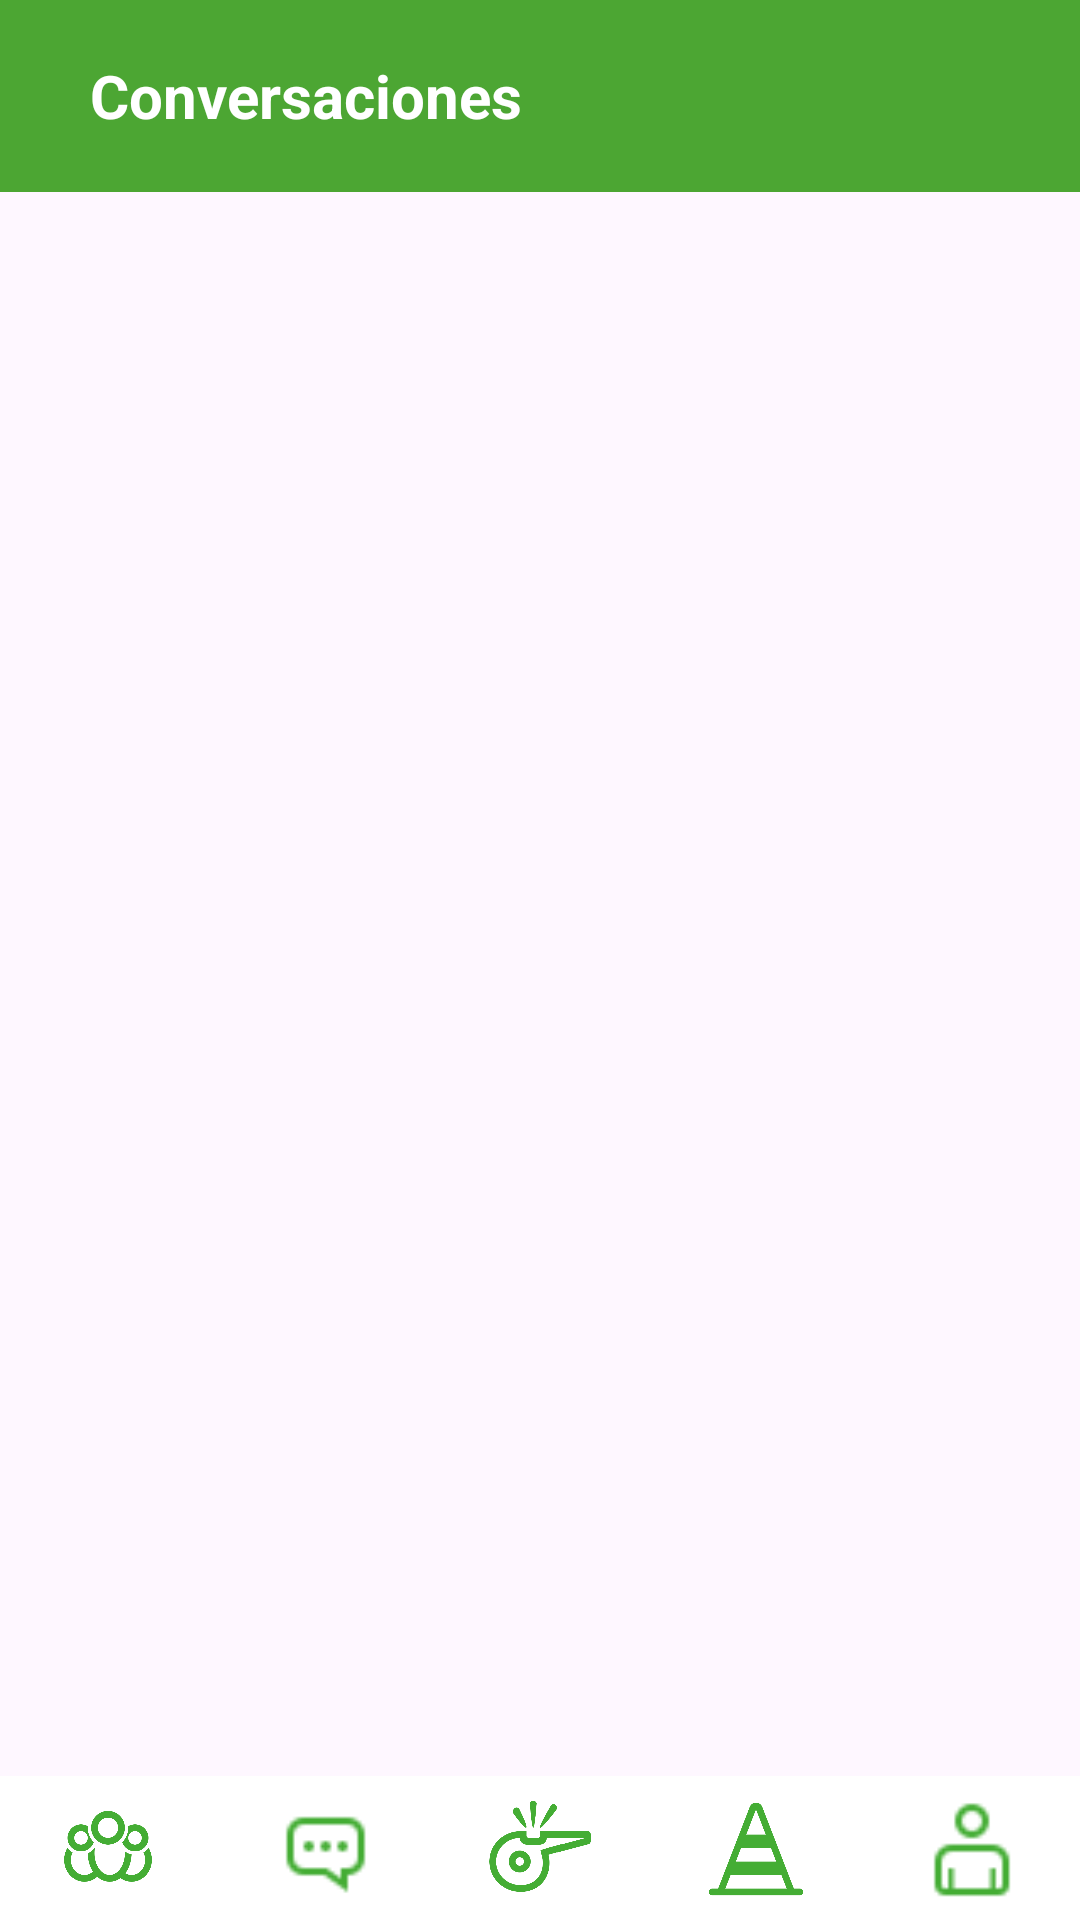

Where icons sit on this 1080 × 1920 app screen, as (x1, y1, x2, y2):
conversacion: (286, 1816, 366, 1893)
global: (64, 1811, 152, 1882)
partido: (489, 1801, 591, 1892)
perfil: (934, 1803, 1010, 1897)
training: (709, 1803, 803, 1895)
